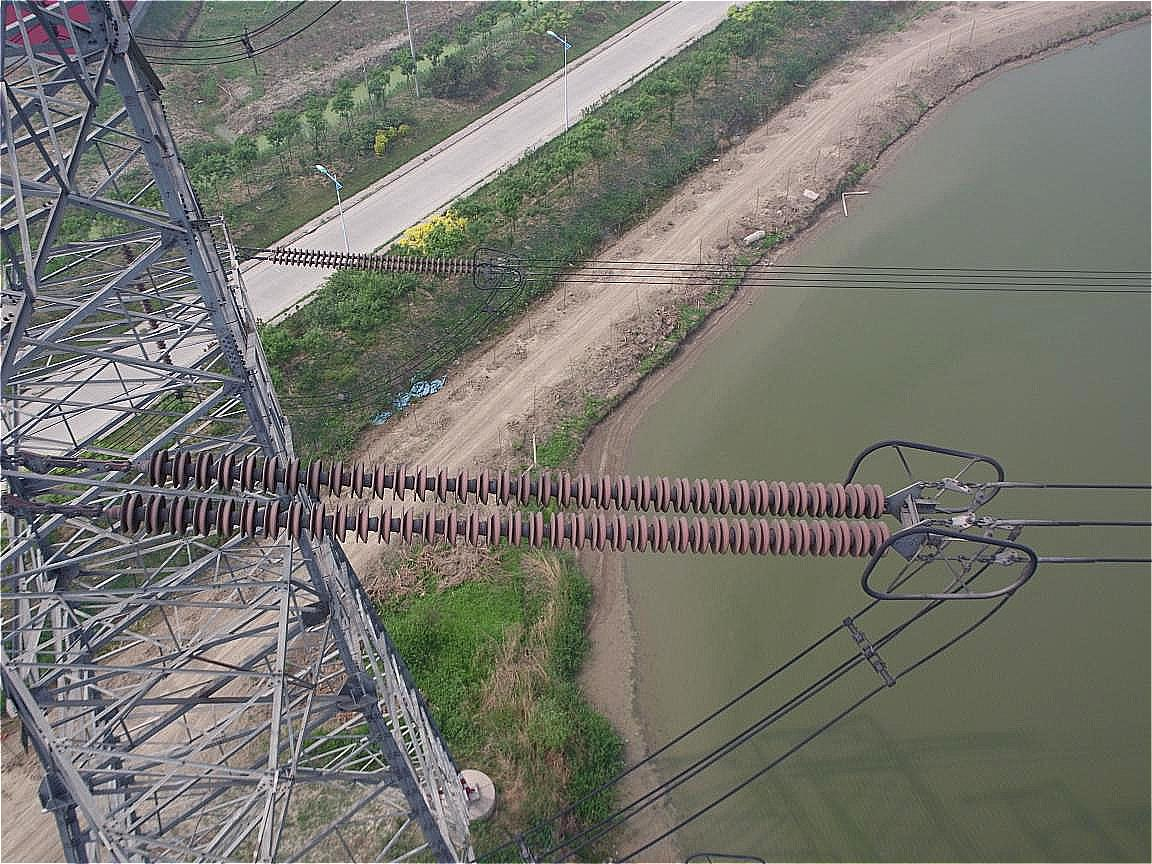insultor1: (272, 248, 479, 279)
insultor2: (121, 445, 891, 563)
